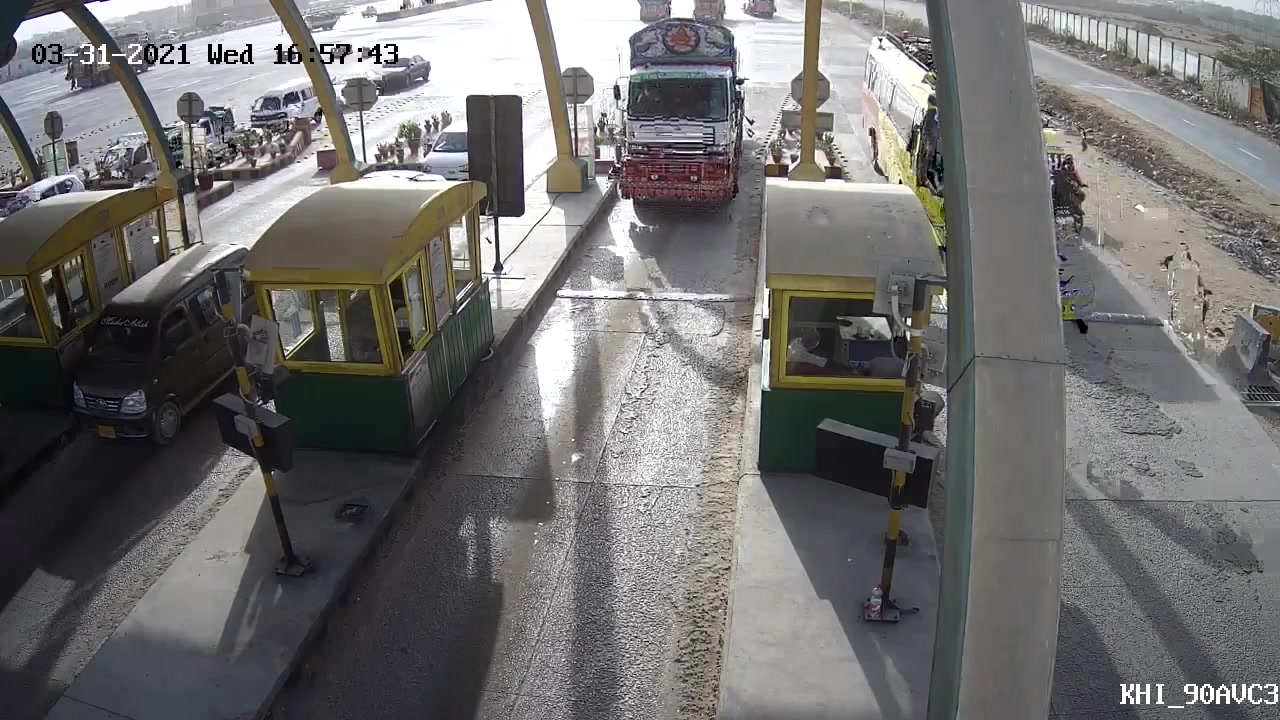F5: (589, 14, 752, 220)
